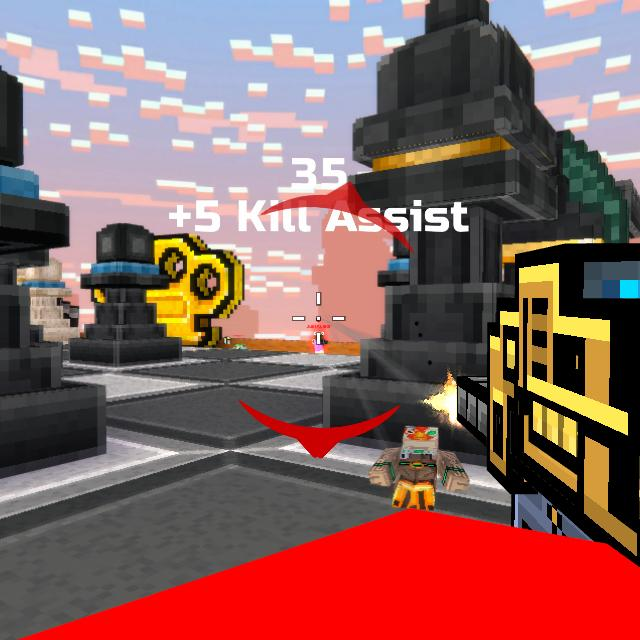Enemy: (313, 332, 328, 353)
